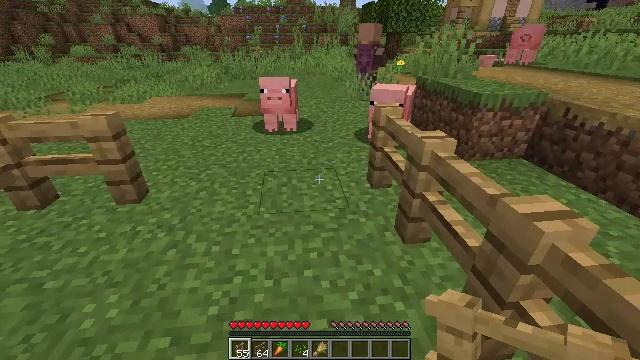pig: (370, 83, 414, 143), (258, 77, 297, 131), (505, 26, 547, 64)
